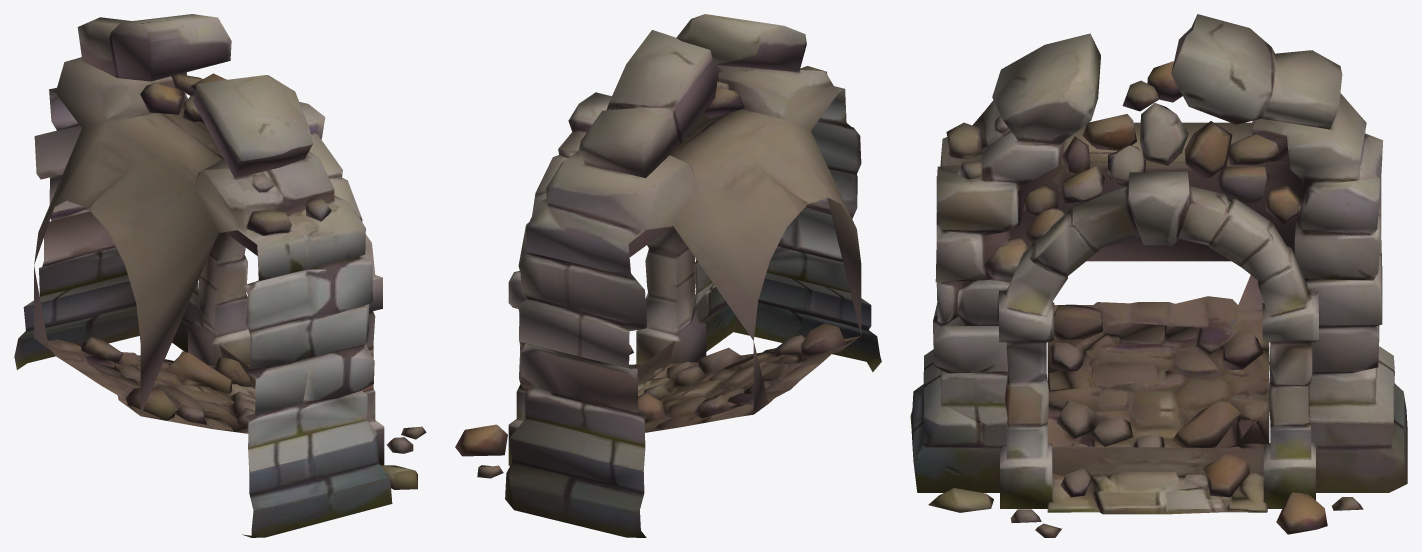
Rendered from delve_module_exit.glb.
The picture shows the model from 3 angles, left to right: view 1: azimuth 30°, elevation 25°; view 2: azimuth 150°, elevation 25°; view 3: azimuth 270°, elevation 25°; orthographic projection. The views are drawn at different scales.
Visible parts, largest first — view 1: tripo_node_f977e8e6-440c-4937-b728-b68ae108c8a5; view 2: tripo_node_f977e8e6-440c-4937-b728-b68ae108c8a5; view 3: tripo_node_f977e8e6-440c-4937-b728-b68ae108c8a5.
Boxes of the visible parts, bbox=[...] form: tripo_node_f977e8e6-440c-4937-b728-b68ae108c8a5: bbox=[14, 14, 426, 537]; tripo_node_f977e8e6-440c-4937-b728-b68ae108c8a5: bbox=[455, 14, 881, 537]; tripo_node_f977e8e6-440c-4937-b728-b68ae108c8a5: bbox=[910, 14, 1407, 537].
Bounding box in the file's own units: 4.15 × 5.5 × 5.87.
1 material, 1 textured.
